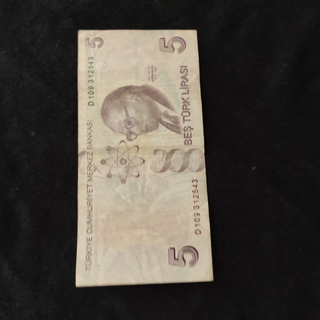5TLBack: (74, 27, 215, 289)
